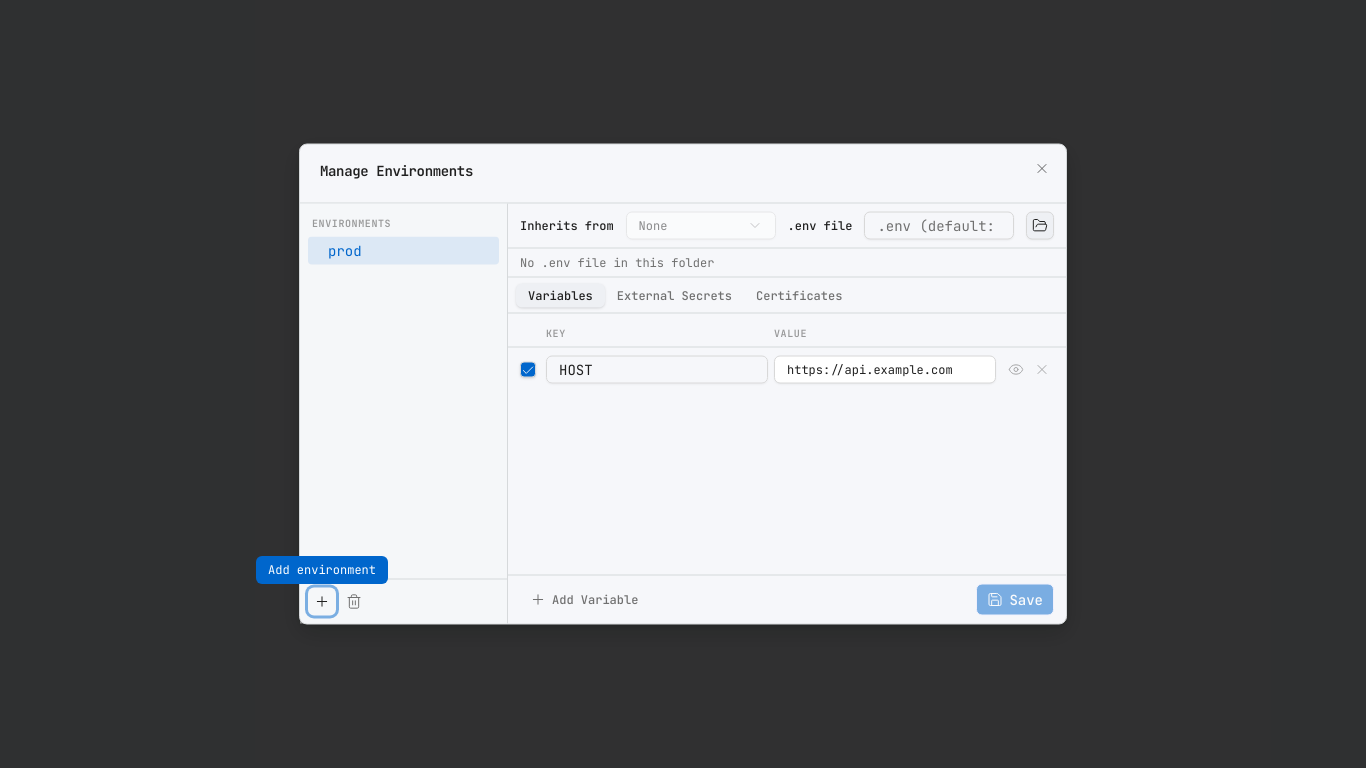
EnvironmentDialog certificates tab › switches to the Certificates tab and back
The width and height of the screenshot is (1366, 768).
Expected: the field named "Variable key 1" is shown, top-left (546, 356), bottom-right (768, 384)
Step 1. Click the tab "Certificates" → x=799, y=295, box top-left (744, 283), bottom-right (854, 307)
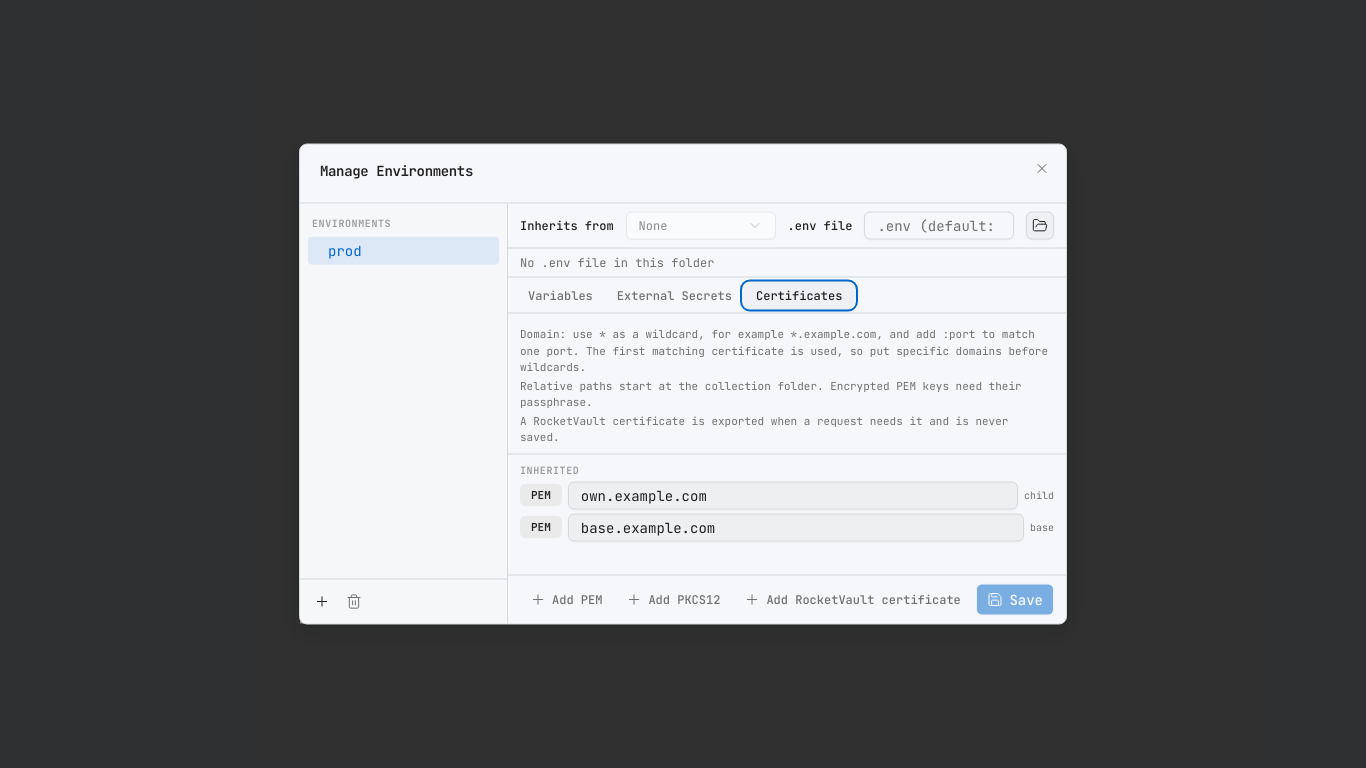
Now the button "Add PEM" is shown, box top-left (520, 586), bottom-right (612, 614)
Step 2. Click the tab "Variables" → x=560, y=295, box top-left (516, 283), bottom-right (605, 307)
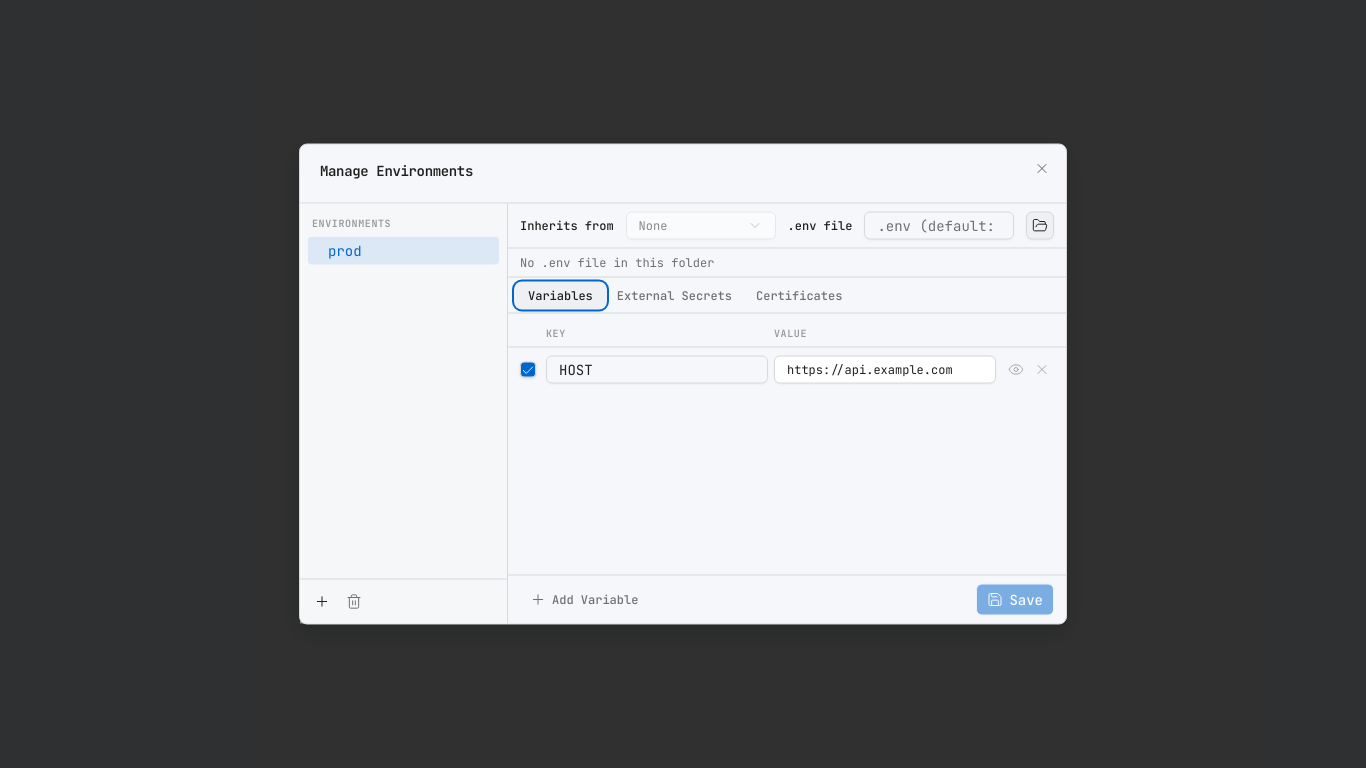
Now the field named "Variable key 1" is shown, box top-left (546, 356), bottom-right (768, 384)
